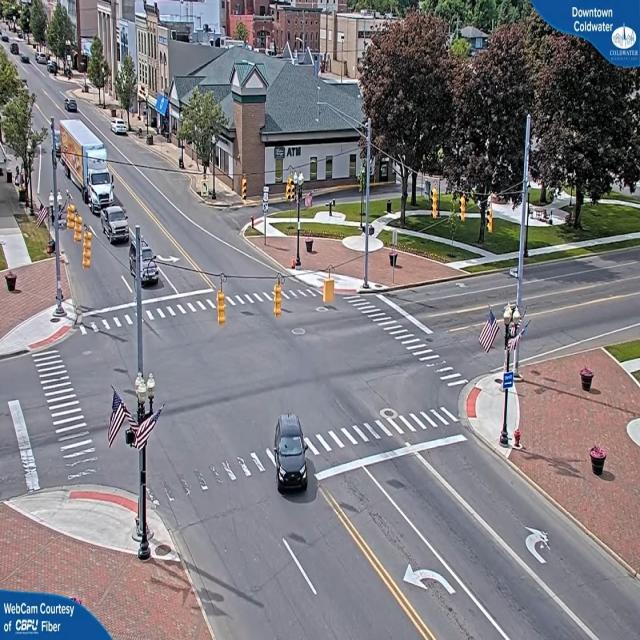car: (272, 414, 308, 492), (134, 235, 162, 288), (102, 206, 131, 243), (64, 98, 77, 113)
truck: (86, 146, 112, 213)
